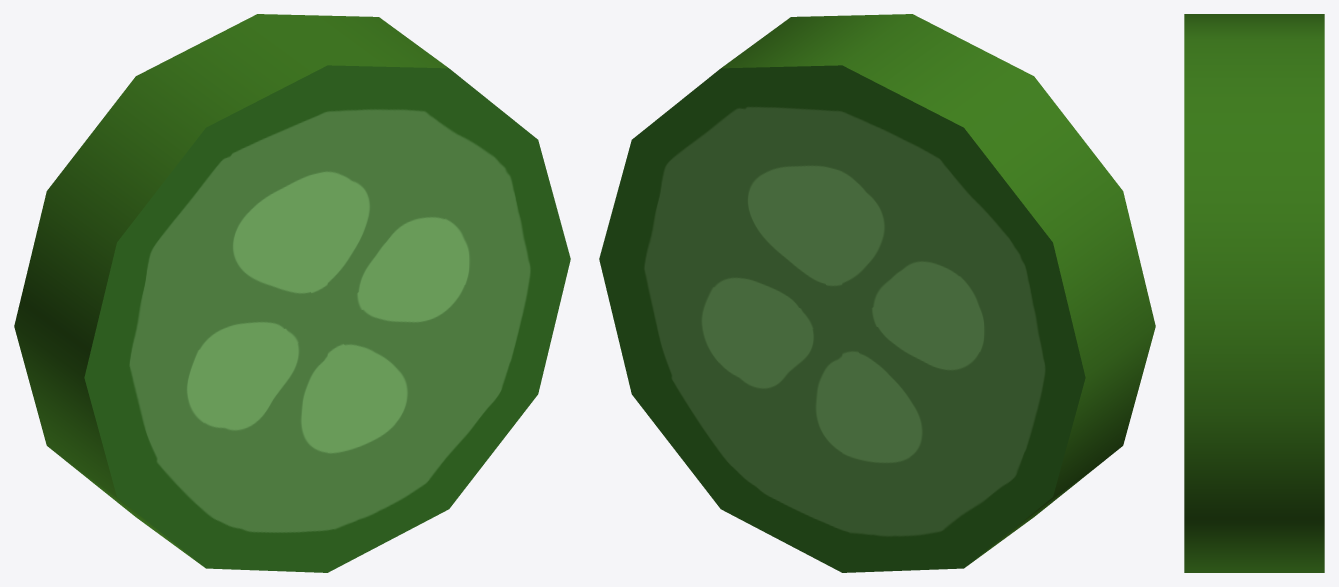
Rendered from gurke_scheibe.fbx.
3 views of the same model, side by side, from view 1: azimuth 30°, elevation 25°; view 2: azimuth 150°, elevation 25°; view 3: azimuth 270°, elevation 25° (orthographic).
Parts seen in each view (by area): view 1: Röhre; view 2: Röhre; view 3: Röhre.
Boxes of the visible parts, x1,y1,x2,y2 form: Röhre: (14,14,570,572); Röhre: (599,14,1155,572); Röhre: (1184,14,1324,572).
Bounding box in the file's own units: 192 × 192 × 48.1.
2 materials, 1 textured.
